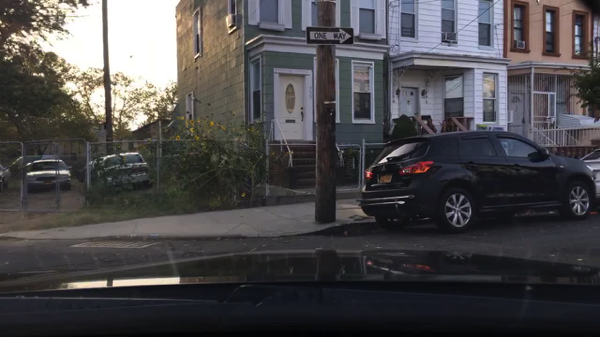car: (357, 130, 596, 236), (100, 151, 154, 194), (22, 158, 70, 194), (573, 146, 599, 212), (7, 154, 62, 176), (88, 156, 109, 184), (78, 158, 94, 182), (0, 160, 11, 194)
person: (421, 115, 437, 137), (440, 117, 455, 134)
traffic sign: (304, 27, 355, 47)
